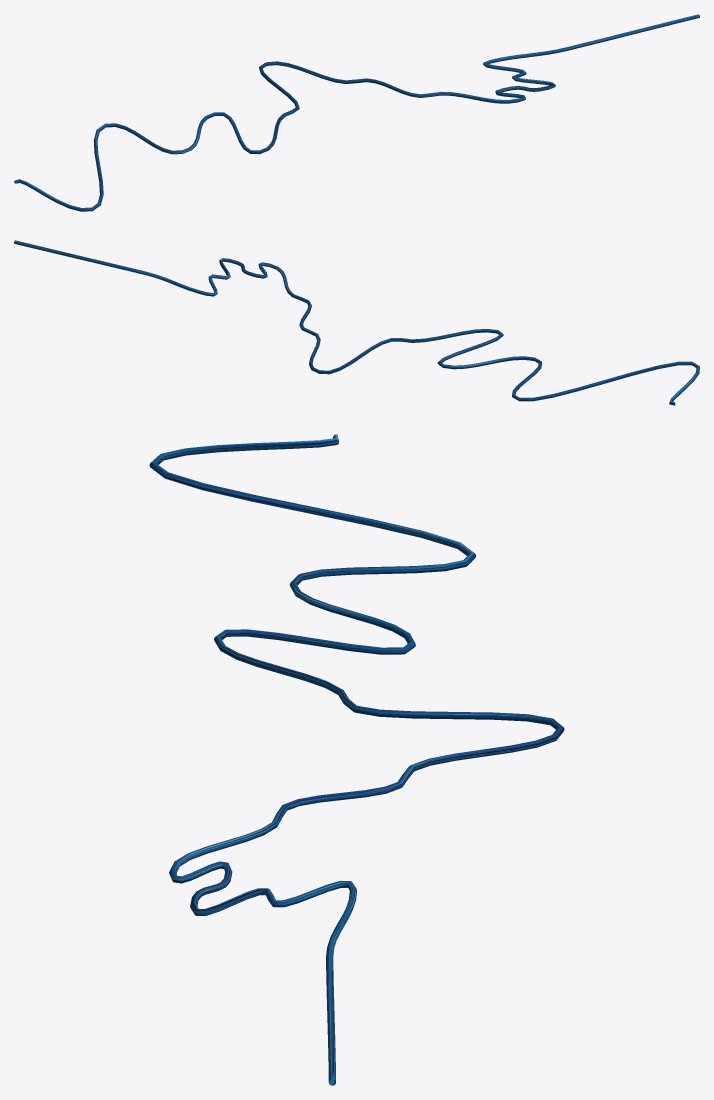
File: rope_3.dae
3 views of the same model, one above another, from view 1: azimuth 30°, elevation 25°; view 2: azimuth 150°, elevation 25°; view 3: azimuth 270°, elevation 25° (orthographic). The views are drawn at different scales.
Parts seen in each view (by area): view 1: BezierCurve; view 2: BezierCurve; view 3: BezierCurve.
Part boxes in pixels (<box>): BezierCurve: <box>14,14,699,211</box>; BezierCurve: <box>14,240,699,405</box>; BezierCurve: <box>149,434,564,1085</box>.
Bounding box in the file's own units: 25.04 × 6.8 × 0.1141.
